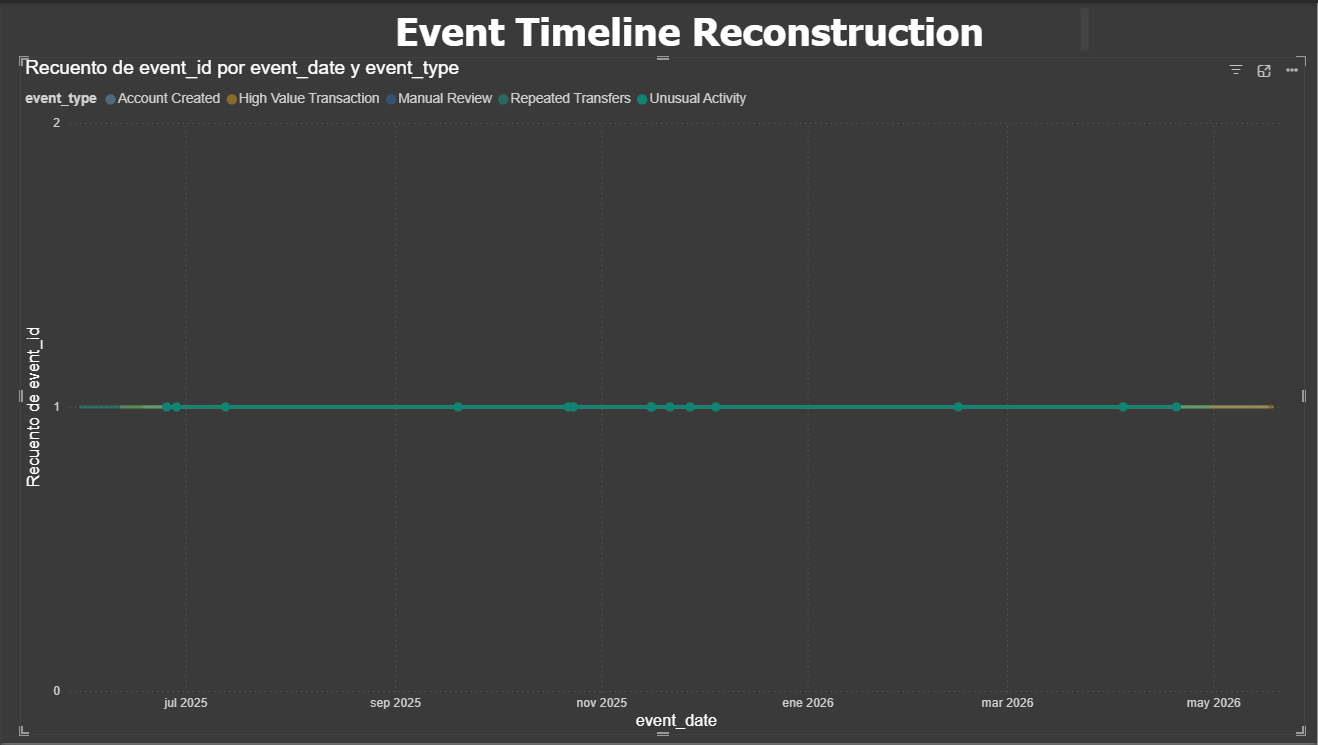

This screenshot's page, from the dashboard's own definition file:
{"tool":"powerbi","page":{"name":"Timeline Reconstruction","canvas":[1280,720],"ordinal":3},"visuals":[{"type":"lineChart","fields":{"Category":["events.event_date"],"Series":["events.event_type"],"Y":["CountNonNull(events.event_id)"]},"box":[18,53,1250,659],"z":0},{"type":"textbox","box":[285,0,778,53],"z":1000}]}

Visuals, with their boxes on the page's 1280x720 design canvas (x1, y1, x2, y2). These are canvas units, not pixel positions in the 1318x745 screenshot, which may show the page scaled, cropped or inside an application window:
lineChart - events.event_date x events.event_type: detection(18, 53, 1268, 712)
textbox: detection(285, 0, 1063, 53)
